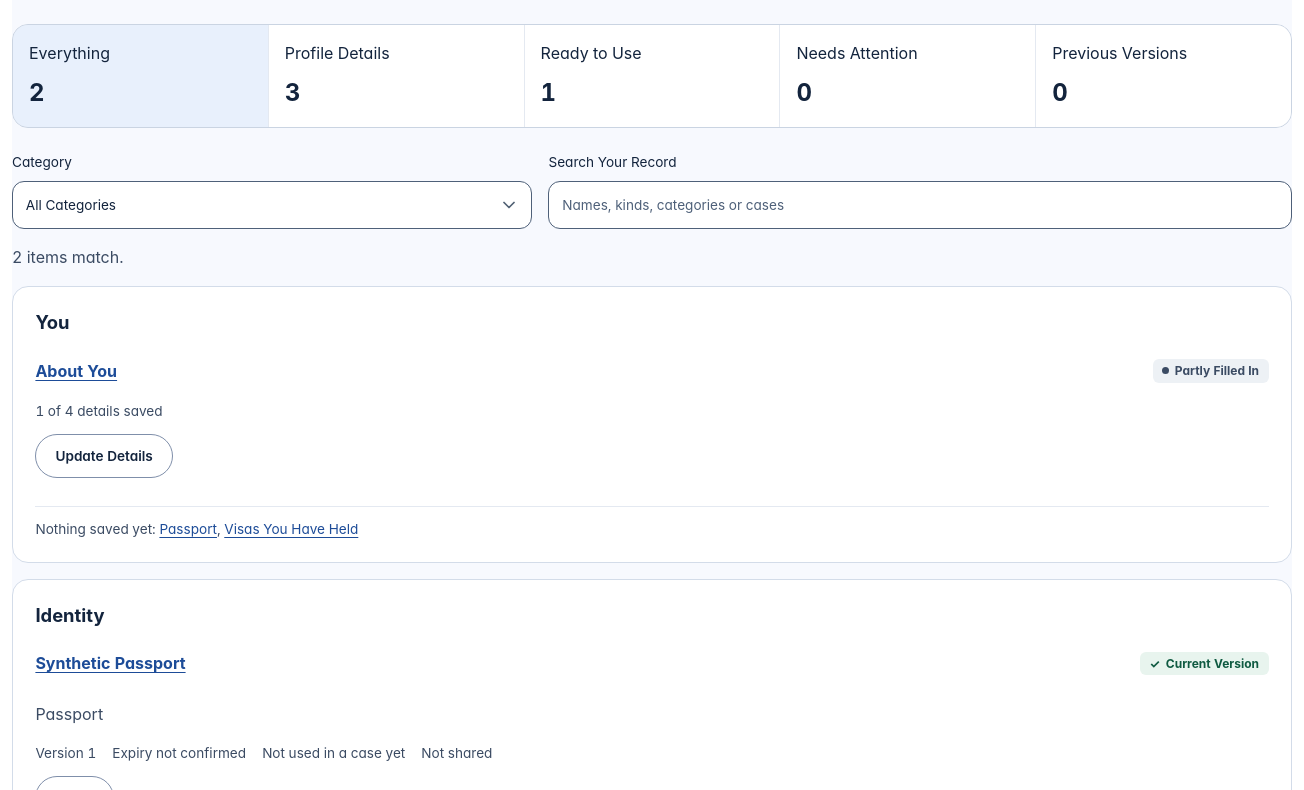
empty profile sections on the Record › are full rows under the Profile Details filter
What coordinates should you click on to do the following:
click the button "Profile Details 3"
I would click on:
 (396, 76)
Its box is [269,25,524,127].
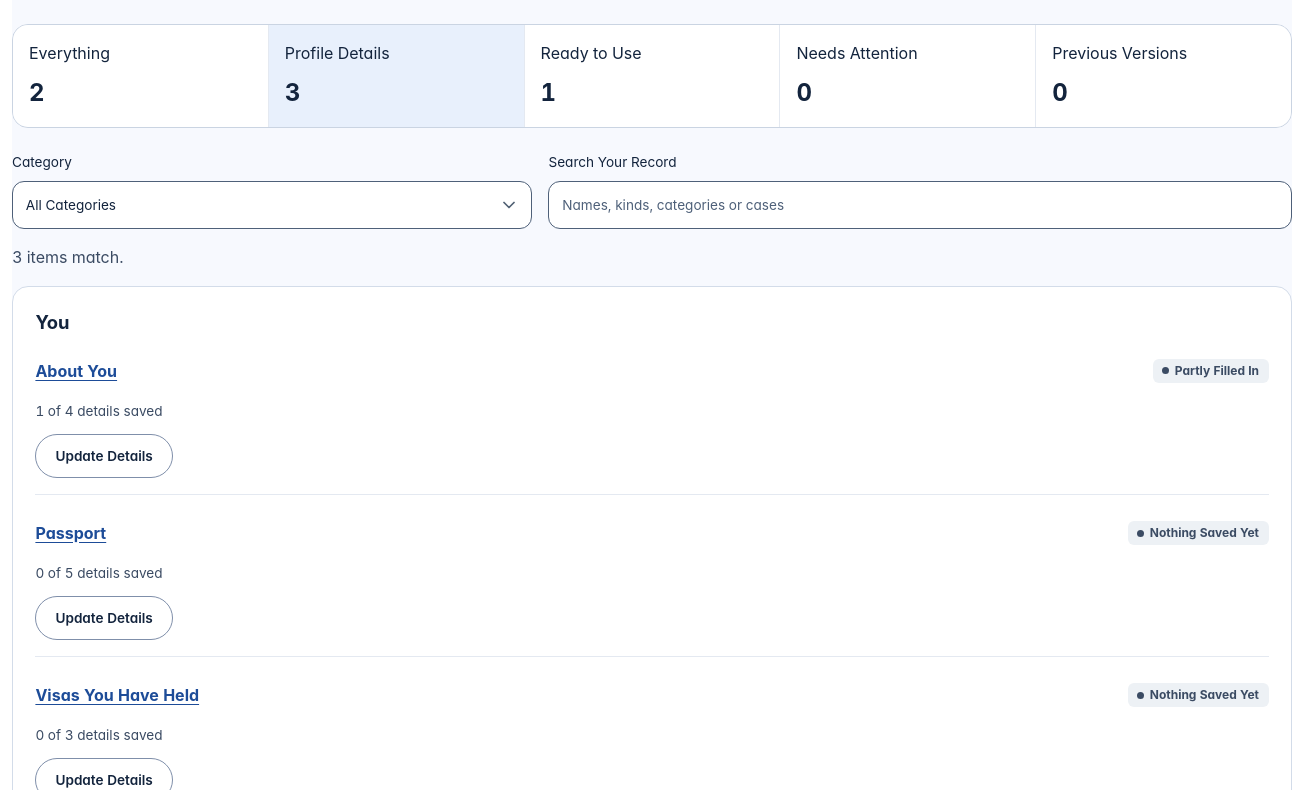
Expected: the element with class "record-hub-nothing-saved" is gone
